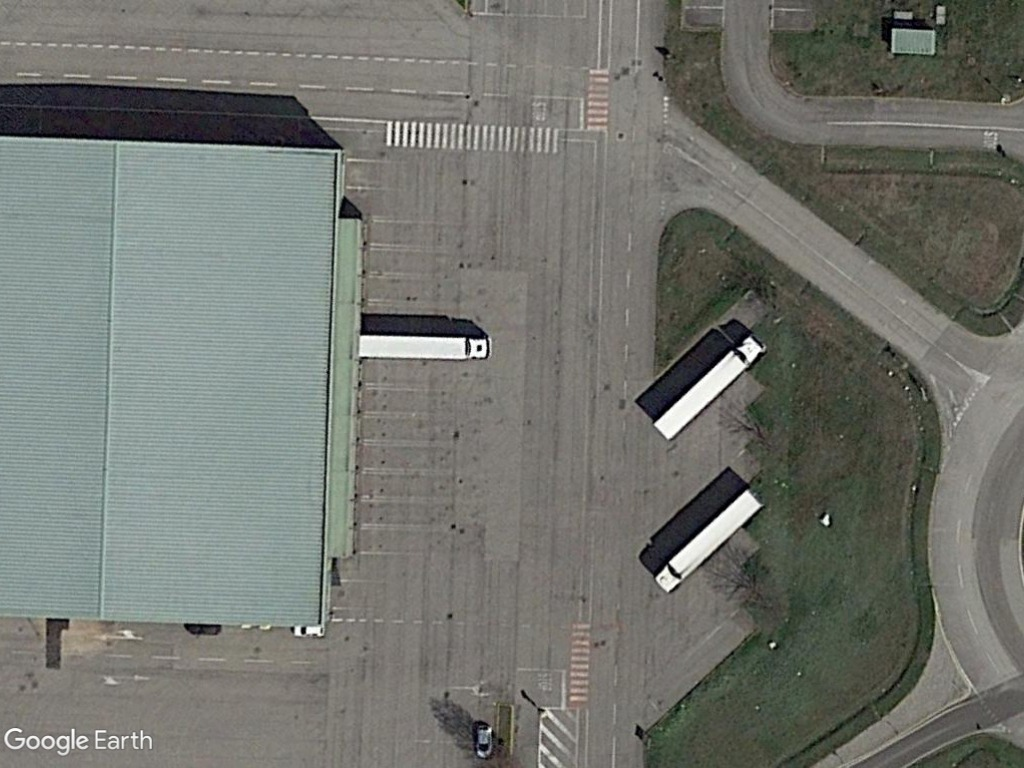car: (471, 720, 498, 761)
longvehicle: (649, 332, 771, 444), (651, 484, 764, 598), (355, 329, 497, 364)
